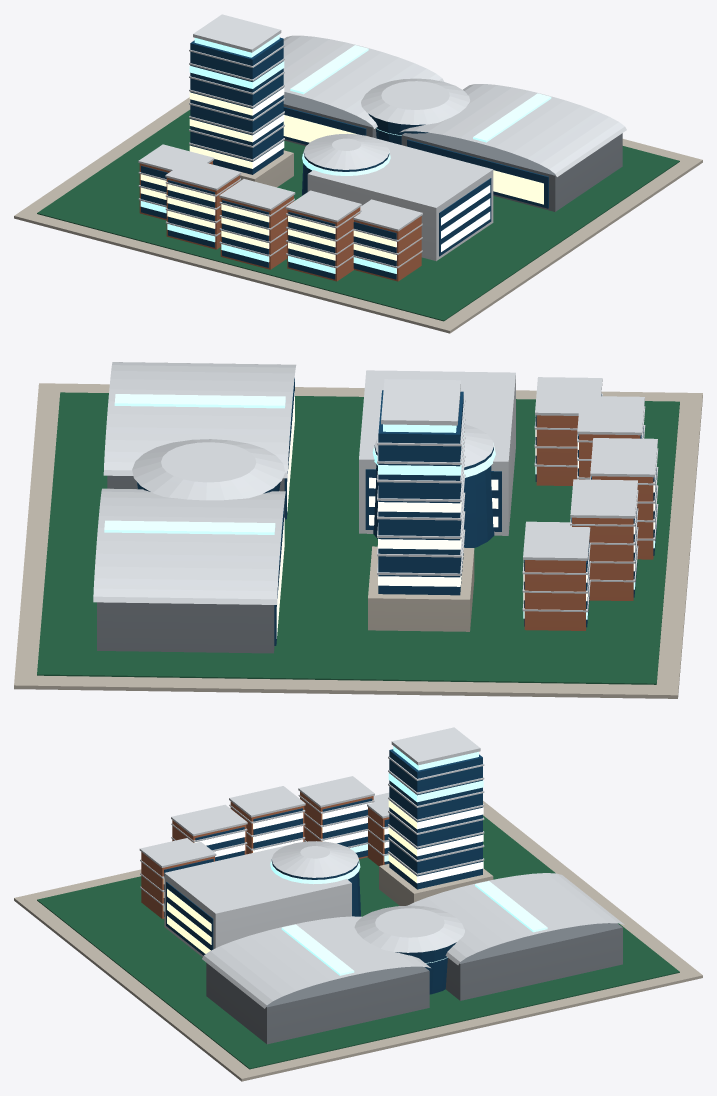
Rendered from crescent_mall_secc_pmh.glb.
The picture shows the model from 3 angles, top to bottom: view 1: azimuth 30°, elevation 25°; view 2: azimuth 150°, elevation 25°; view 3: azimuth 270°, elevation 25°; orthographic projection. The views are drawn at different scales.
Visible parts, largest first — view 1: crescent_mall_secc_pmh; view 2: crescent_mall_secc_pmh; view 3: crescent_mall_secc_pmh.
Part boxes in pixels (x1=…): crescent_mall_secc_pmh: x1=14, y1=14, x2=702, y2=333; crescent_mall_secc_pmh: x1=14, y1=362, x2=702, y2=698; crescent_mall_secc_pmh: x1=14, y1=727, x2=702, y2=1081.
Size of the model in its own units: 271 by 68 by 277.
